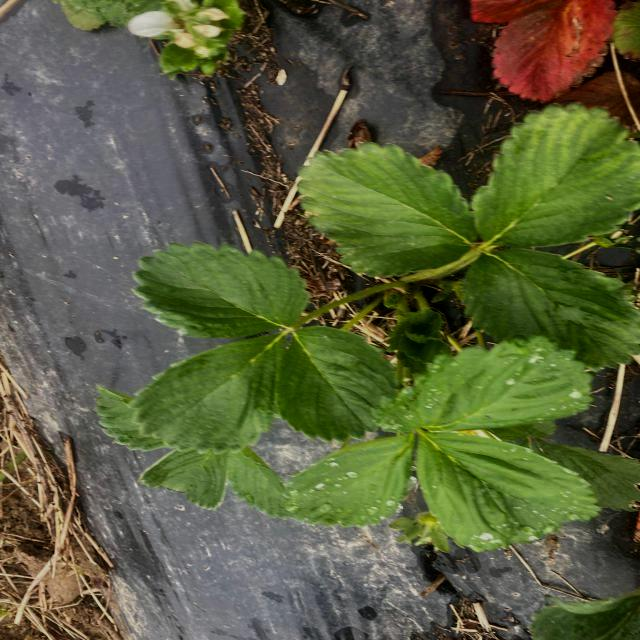flower: (279, 87, 640, 367), (294, 332, 605, 556), (122, 237, 388, 457)
